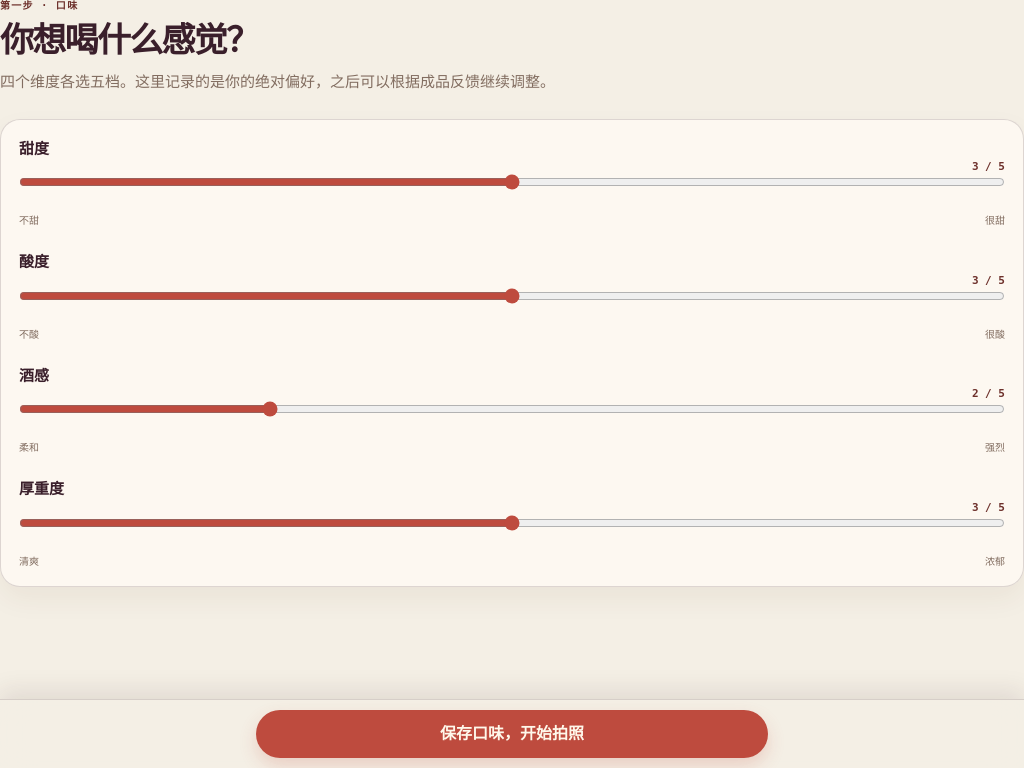
Scenario: PreferencesScreen › keeps the edited values and exposes an accessible error when saving fails
Set the slider named "甜度" to "5". click: (997, 182)
box: 19,160 -> 1005,204
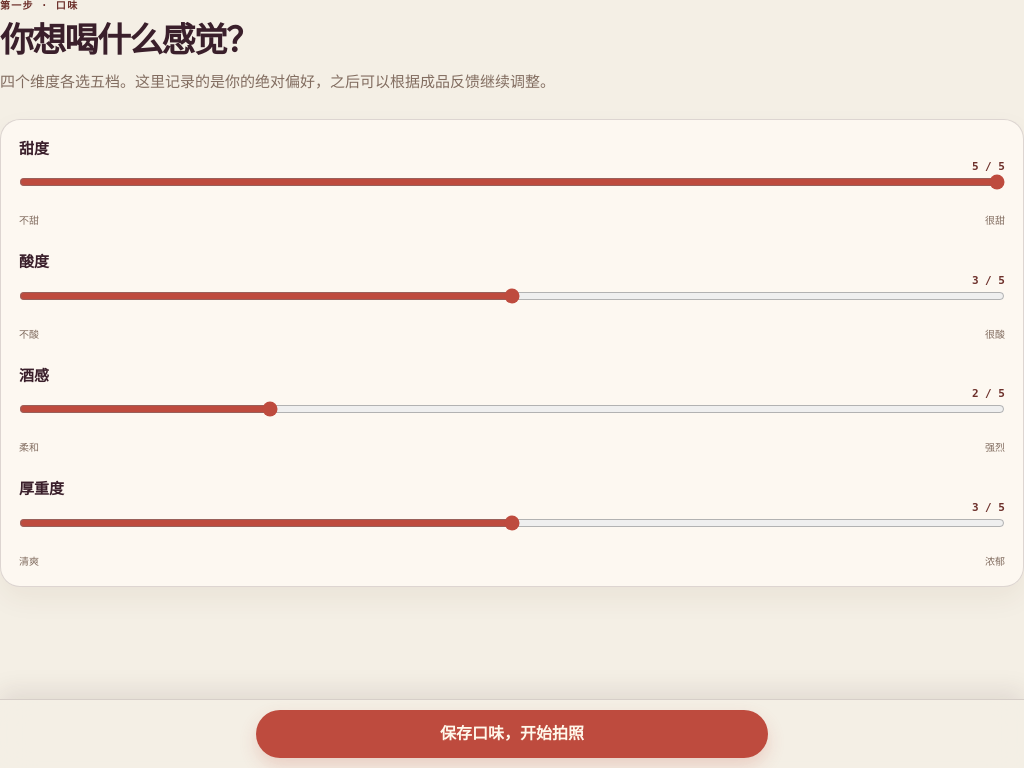
Click the button "保存口味，开始拍照". click: (512, 734)
box: 256,710 -> 768,758
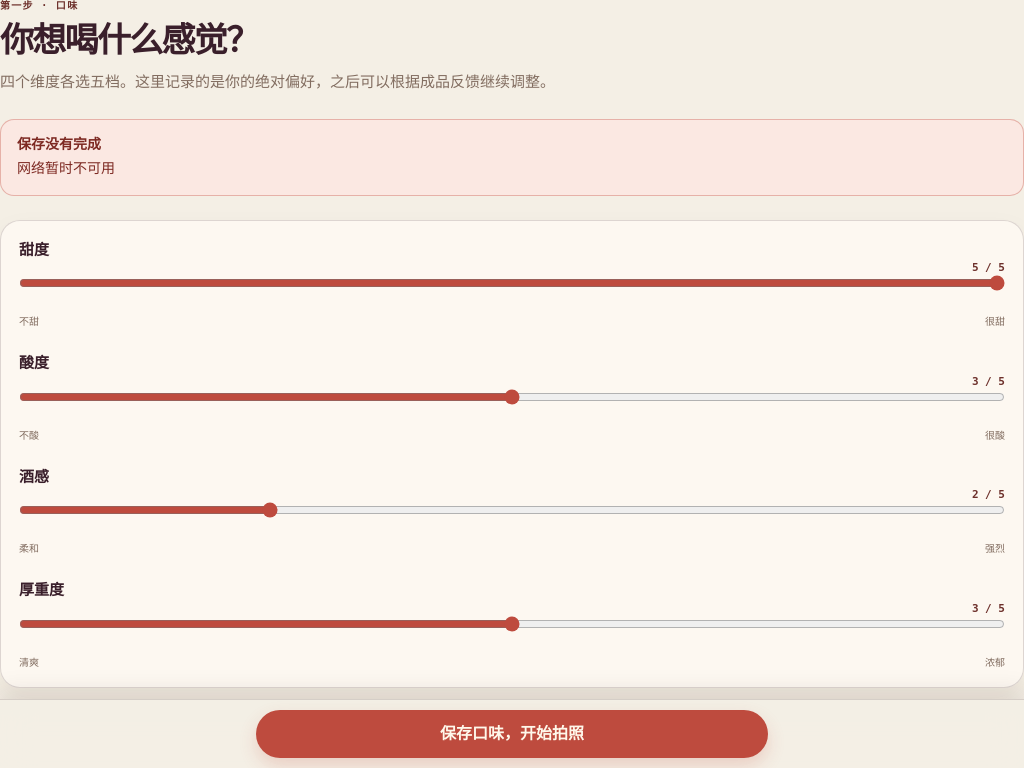
Expected: the message shows "网络暂时不可用", 17,161 -> 115,176
